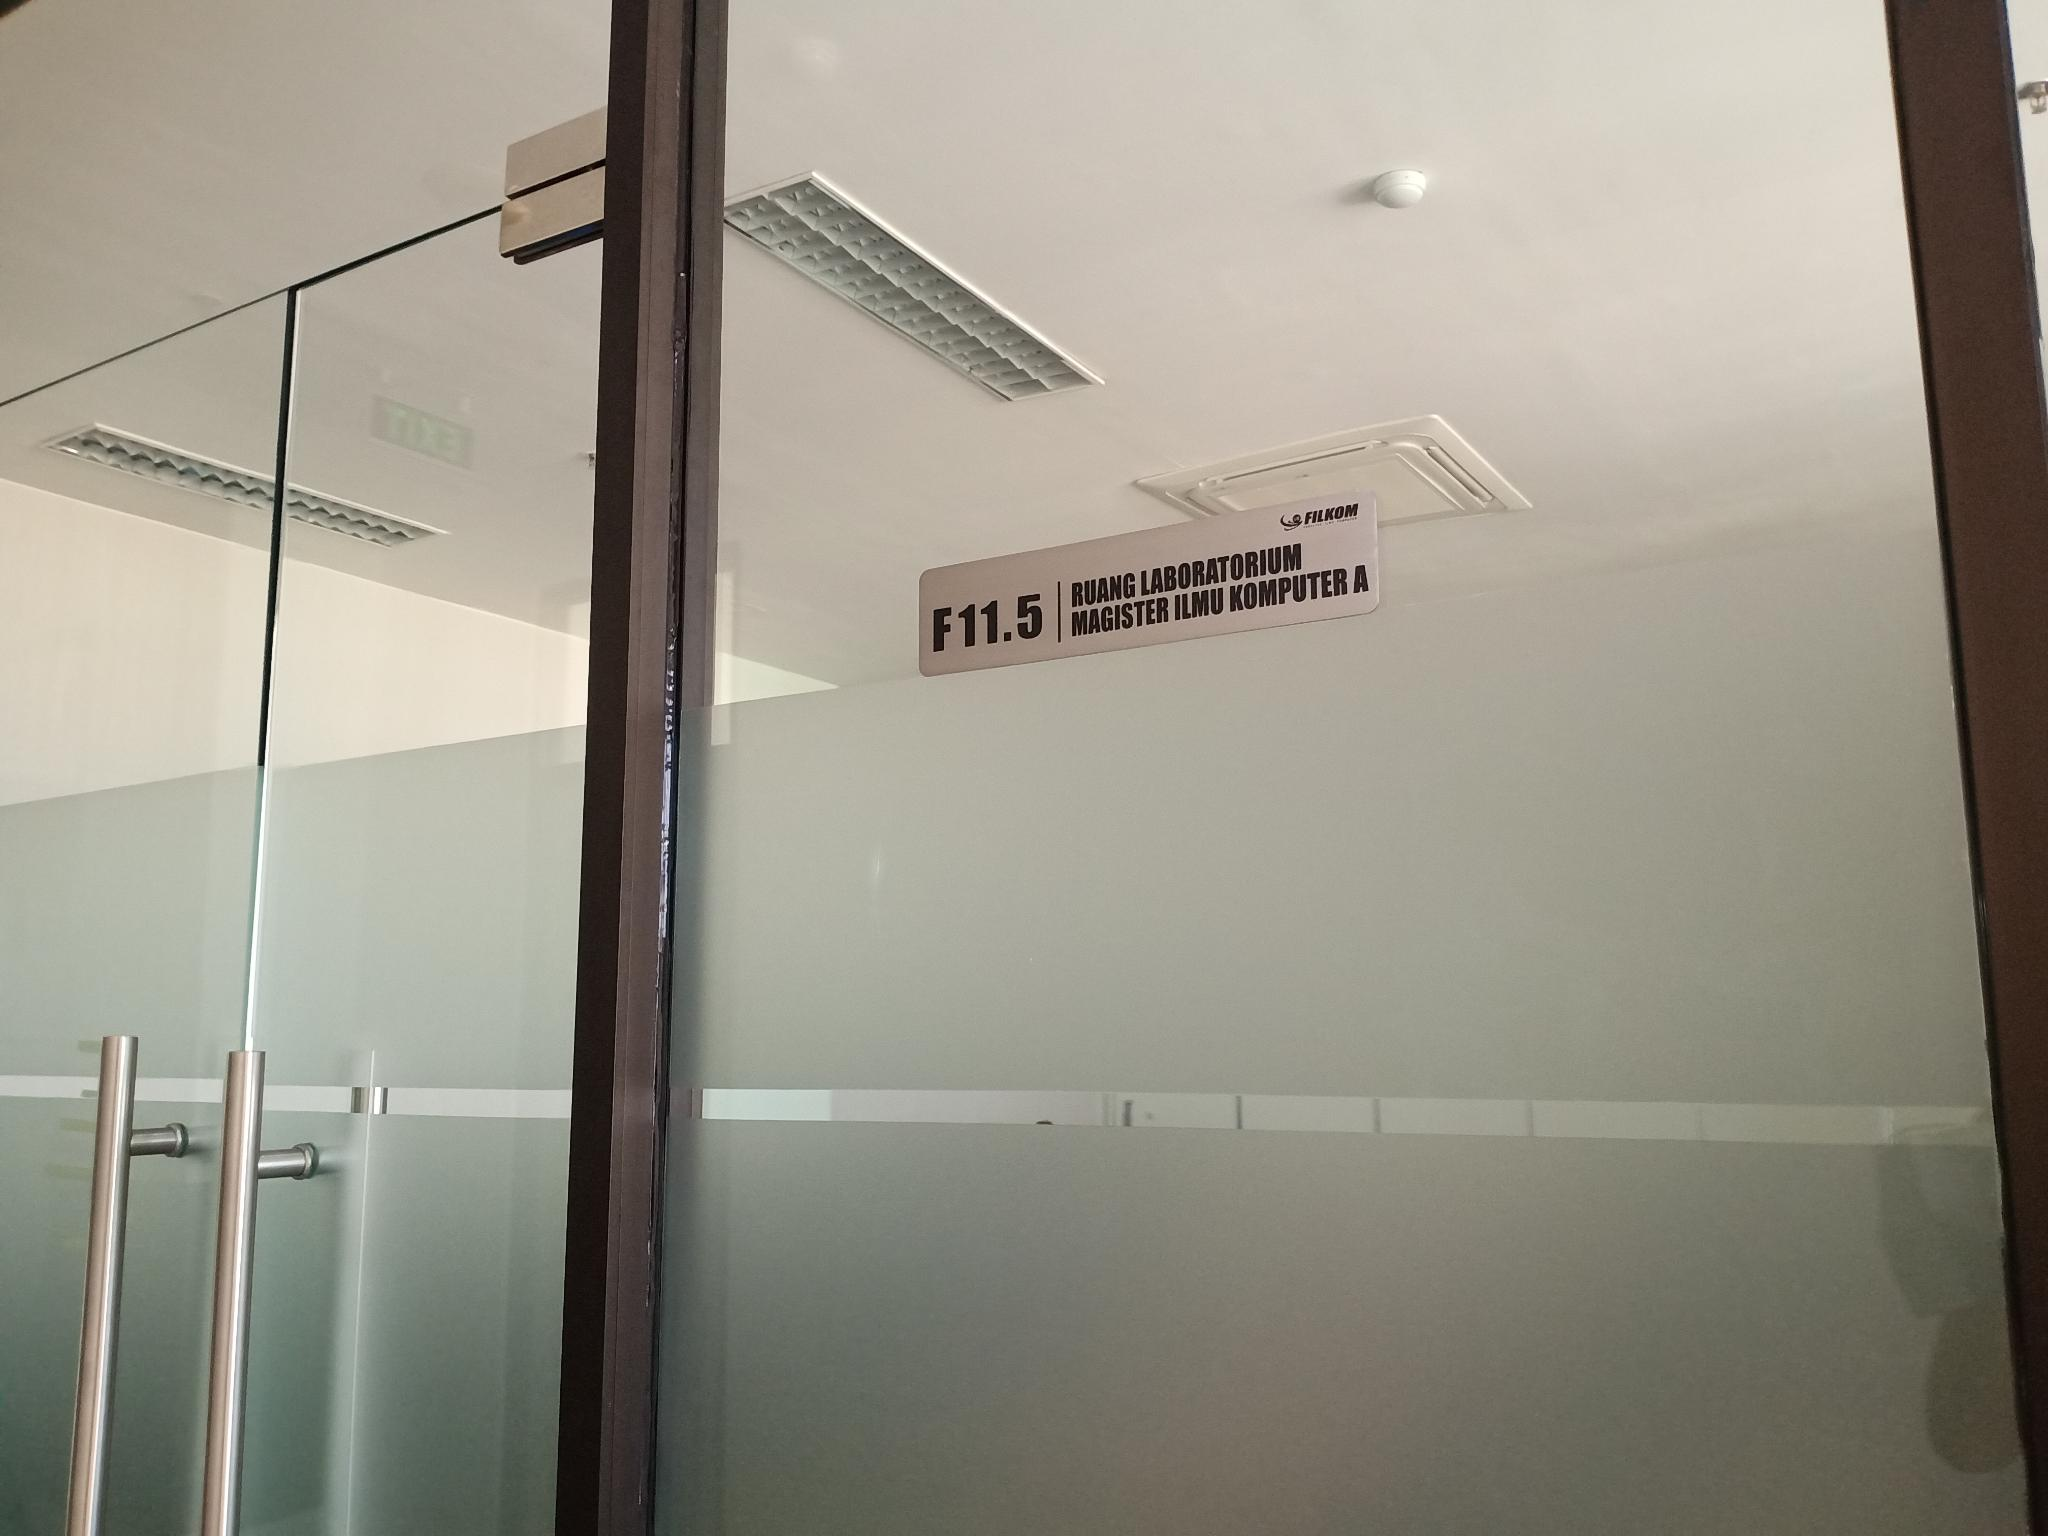plate: (916, 486, 1380, 681)
